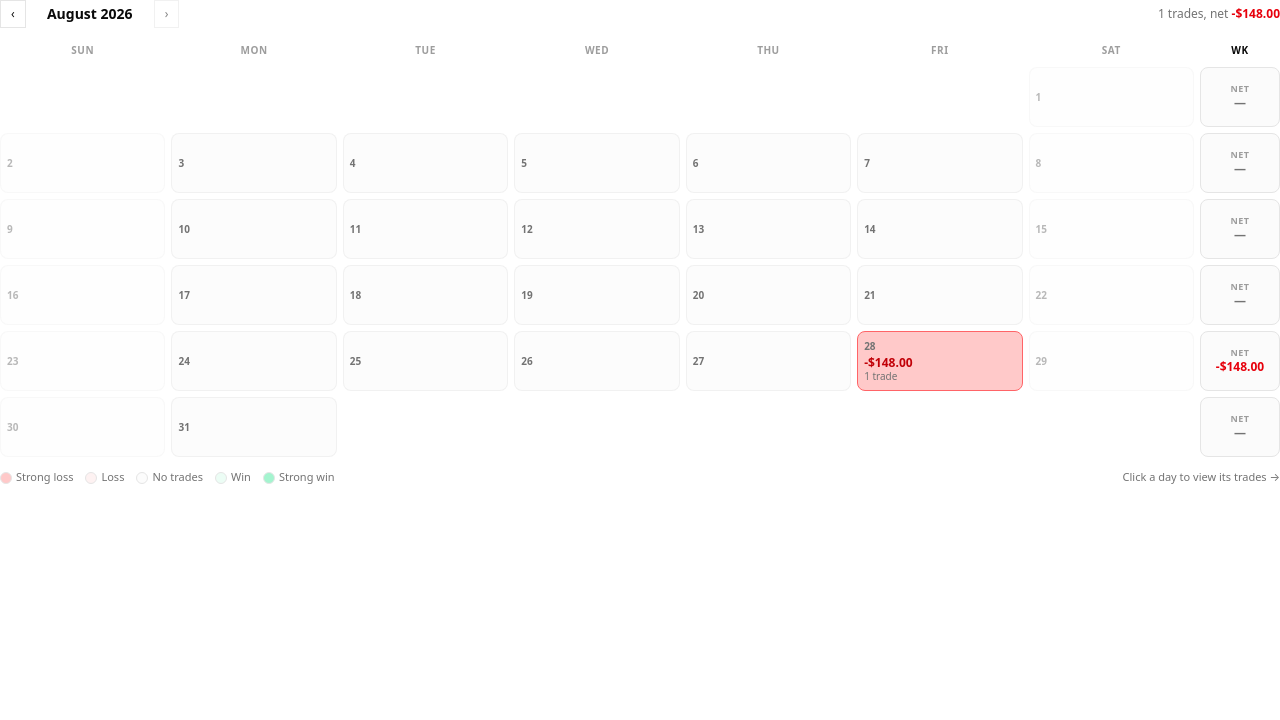
Test case: CalendarTab › opens the day modal when a day with trades is clicked
The image size is (1280, 720).
Click the text "1 trade": (881, 376) [864,369,897,383]
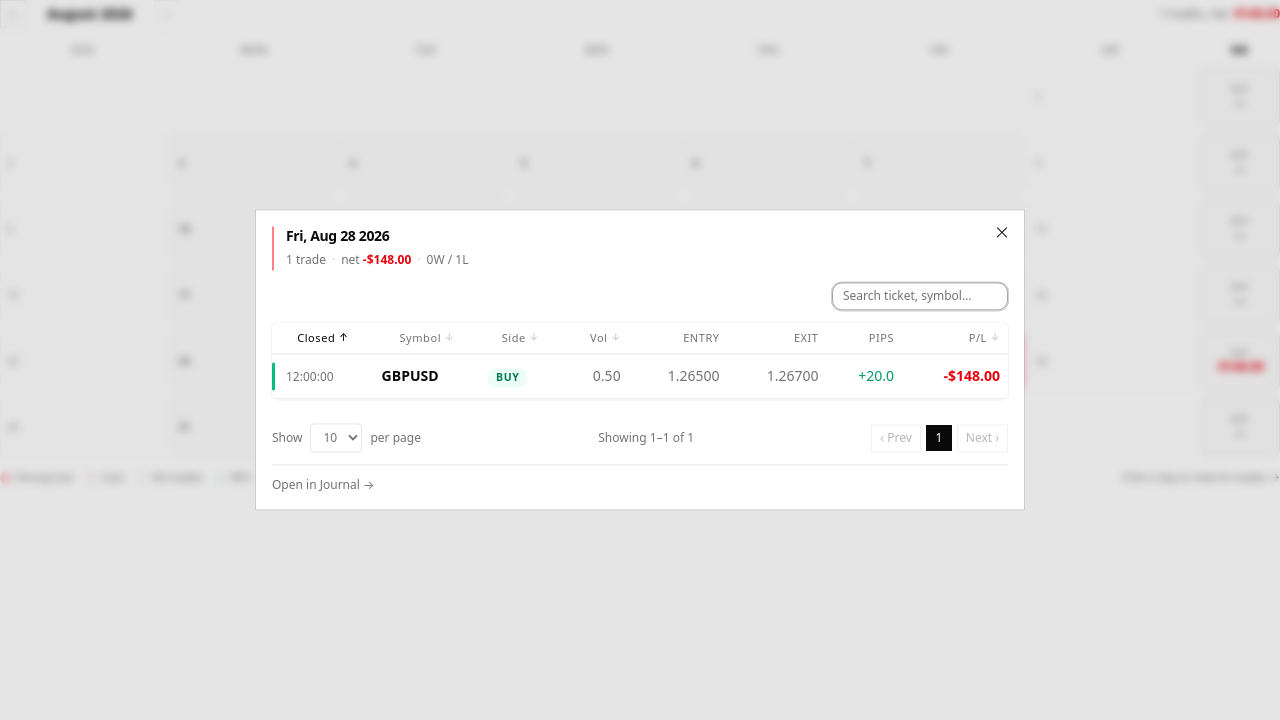
Result: the dialog is shown at [256,210,1024,510]
Result: the text "GBPUSD" is shown at [374,354,480,399]
